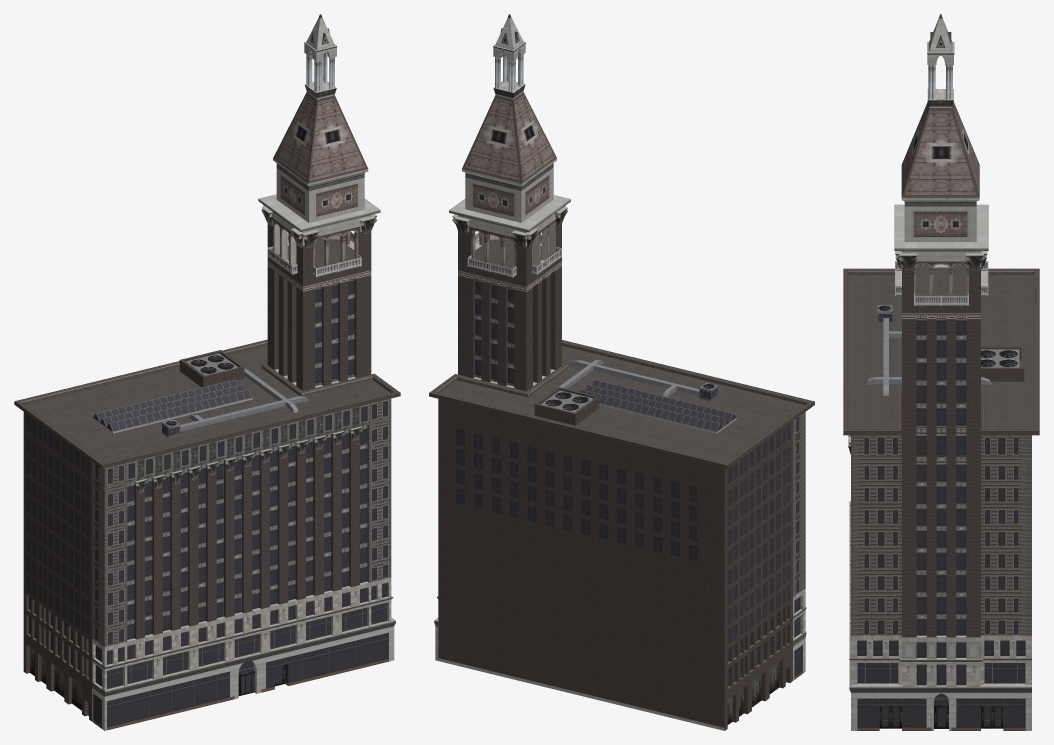
Rendered from building_4.fbx.
The picture shows the model from 3 angles, left to right: view 1: azimuth 30°, elevation 25°; view 2: azimuth 150°, elevation 25°; view 3: azimuth 270°, elevation 25°; orthographic projection. The views are drawn at different scales.
Parts seen in each view (by area): view 1: Cube; view 2: Cube; view 3: Cube.
Part boxes in pixels (<box>): Cube: <box>14,14,400,730</box>; Cube: <box>429,14,814,730</box>; Cube: <box>843,14,1039,730</box>.
Size of the model in its own units: 1010 by 2001 by 510.
